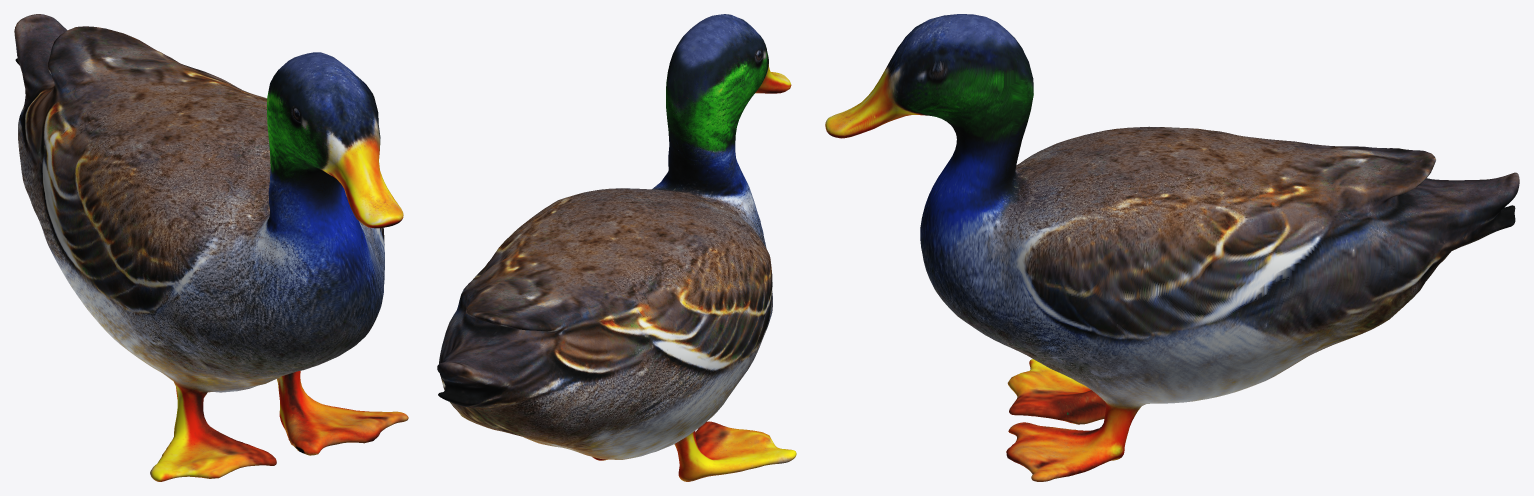
Rendered from e11e09bb-ed86-4e8e-8003-59cbb7ed27a7.glb.
The picture shows the model from 3 angles, left to right: view 1: azimuth 30°, elevation 25°; view 2: azimuth 150°, elevation 25°; view 3: azimuth 270°, elevation 25°; orthographic projection. The views are drawn at different scales.
Parts seen in each view (by area): view 1: Duck_Quad; view 2: Duck_Quad; view 3: Duck_Quad.
Boxes of the visible parts, x1,y1,x2,y2 form: Duck_Quad: (14,14,408,481); Duck_Quad: (437,14,796,481); Duck_Quad: (825,14,1519,481).
Size of the model in its own units: 0.2032 by 0.3309 by 0.4911.
Materials: 1 (1 with a texture image).
